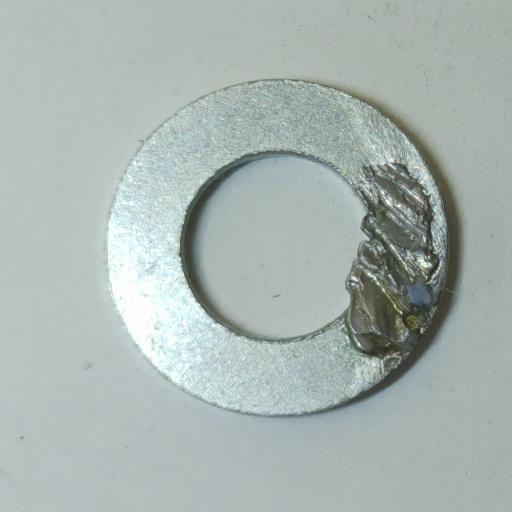excess_material: (345, 163, 440, 356)
